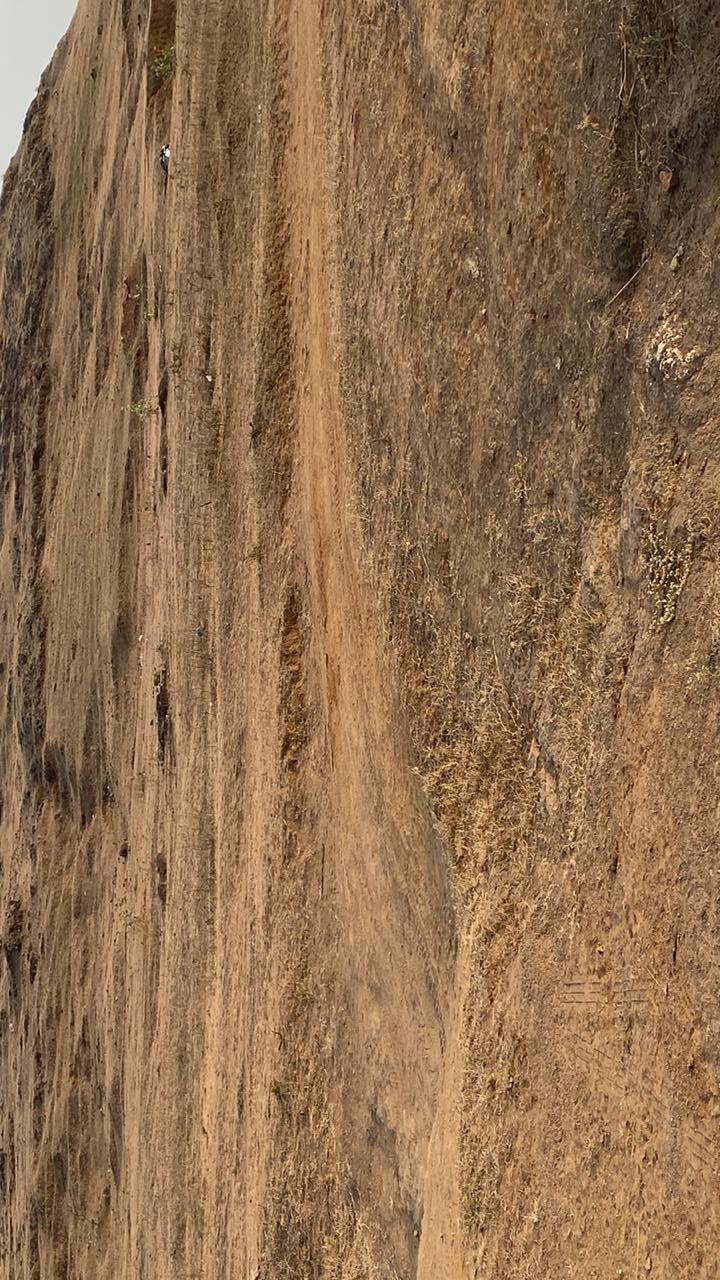vehicle_track: (293, 0, 462, 1280)
